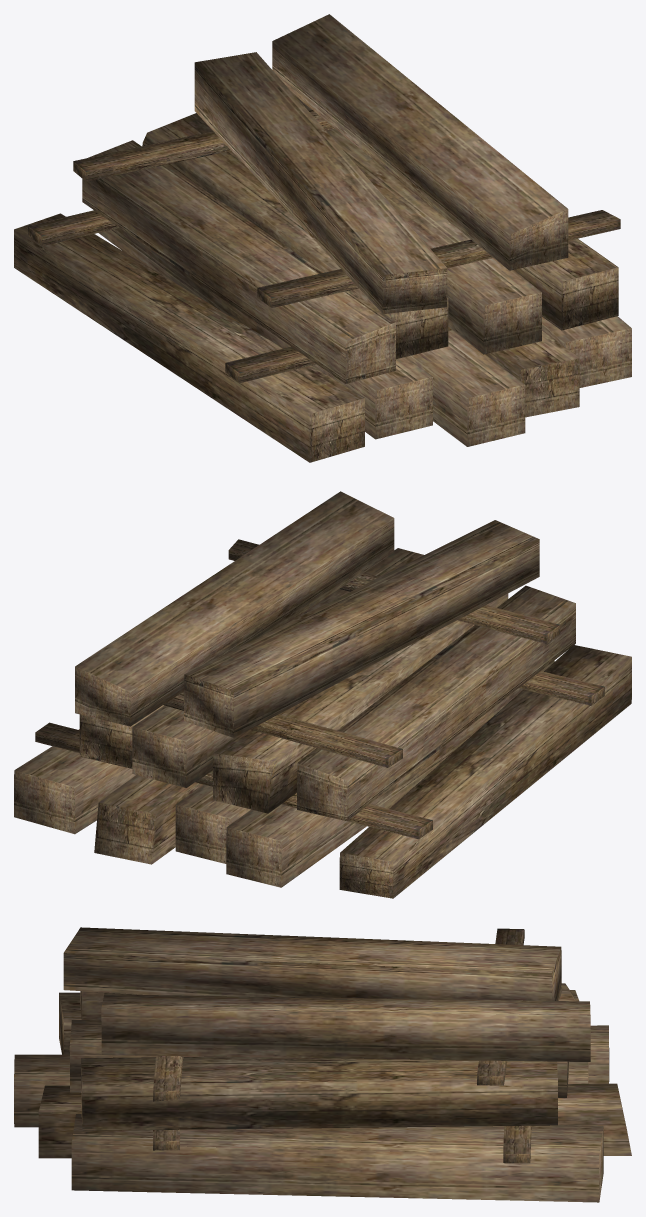
Rendered from S_Build_West023.FBX.
3 renders of one model, top to bottom at view 1: azimuth 30°, elevation 25°; view 2: azimuth 150°, elevation 25°; view 3: azimuth 270°, elevation 25°, orthographic. The views are drawn at different scales.
Parts seen in each view (by area): view 1: S_Build_West023; view 2: S_Build_West023; view 3: S_Build_West023.
Part boxes in pixels (left/top/right/bottom): S_Build_West023: left=14, top=14, right=631, bottom=462; S_Build_West023: left=14, top=491, right=631, bottom=898; S_Build_West023: left=14, top=927, right=631, bottom=1202.
Size of the model in its own units: 213 by 298 by 86.18.
